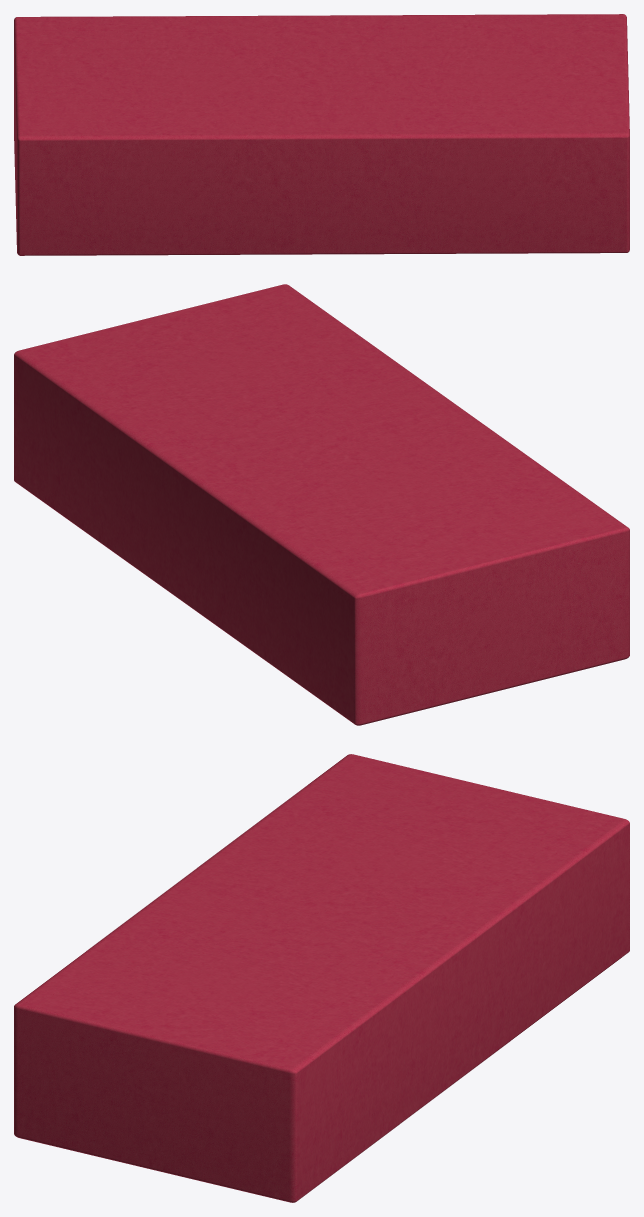
The model's file is mobiliario1.glb.
3 renders of one model, top to bottom at view 1: azimuth 30°, elevation 25°; view 2: azimuth 150°, elevation 25°; view 3: azimuth 270°, elevation 25°, orthographic. The views are drawn at different scales.
Parts seen in each view (by area): view 1: Mesh_0.001; view 2: Mesh_0.001; view 3: Mesh_0.001.
Part boxes in pixels (box(x1,y1,x2,y2)): Mesh_0.001: box(14, 14, 629, 255); Mesh_0.001: box(14, 284, 629, 725); Mesh_0.001: box(14, 754, 629, 1202).
Size of the model in its own units: 3.15 by 0.617 by 2.58.
Materials: 1 (1 with a texture image).
